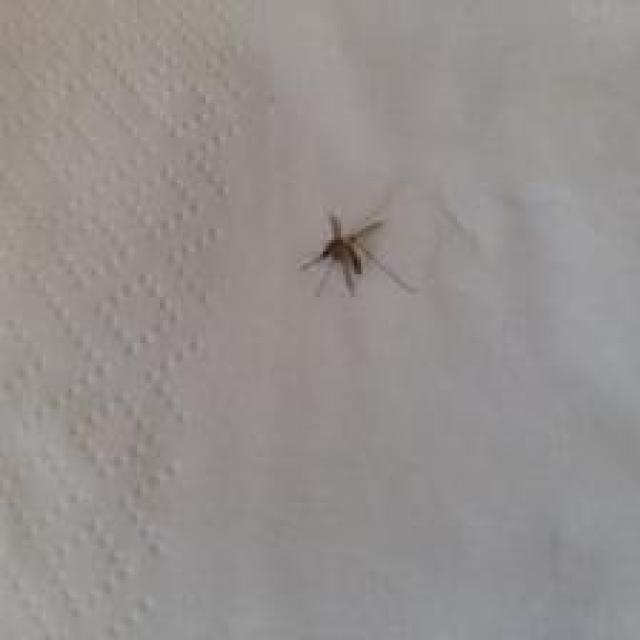Culex: (297, 210, 417, 299)
